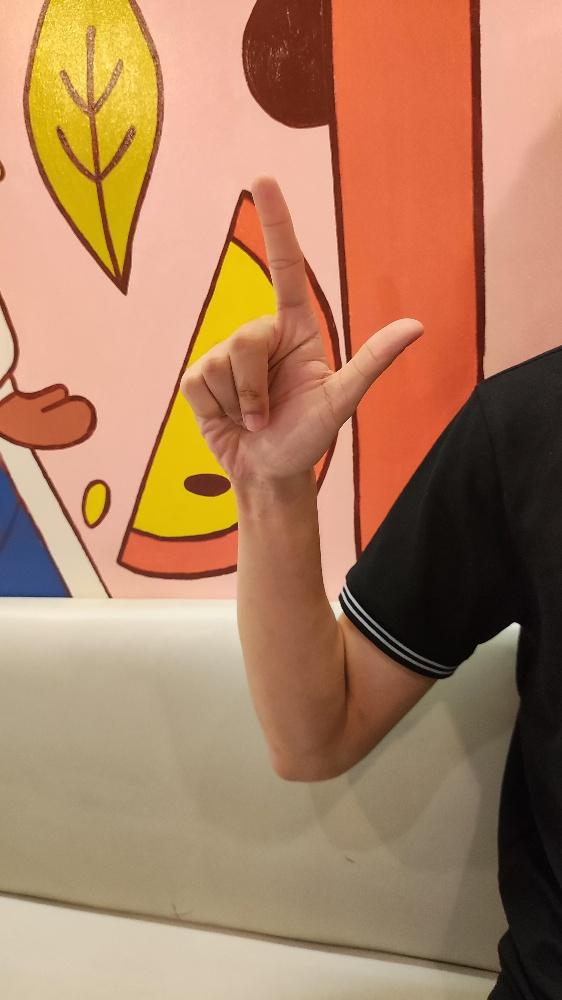l: (177, 171, 425, 486)
